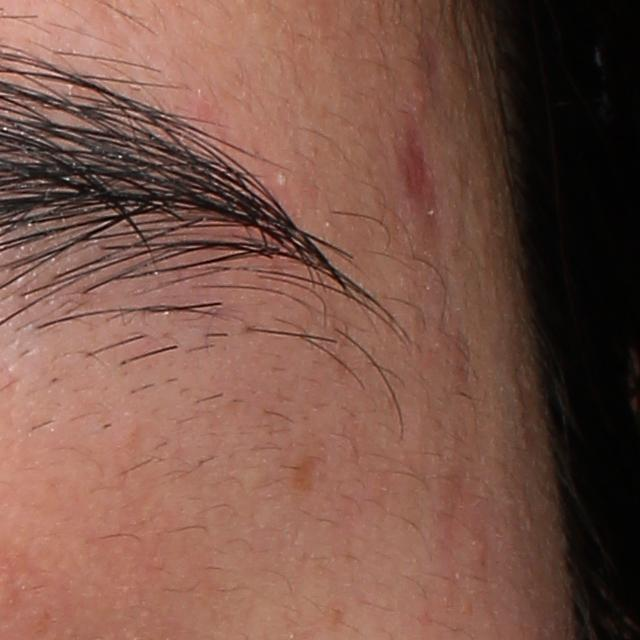melasma: (291, 453, 325, 496)
